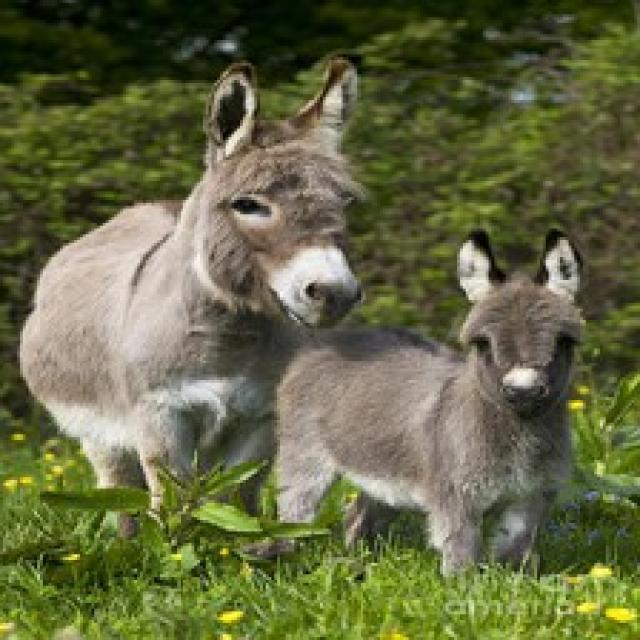Donkey: (11, 41, 407, 538), (232, 172, 598, 604)
